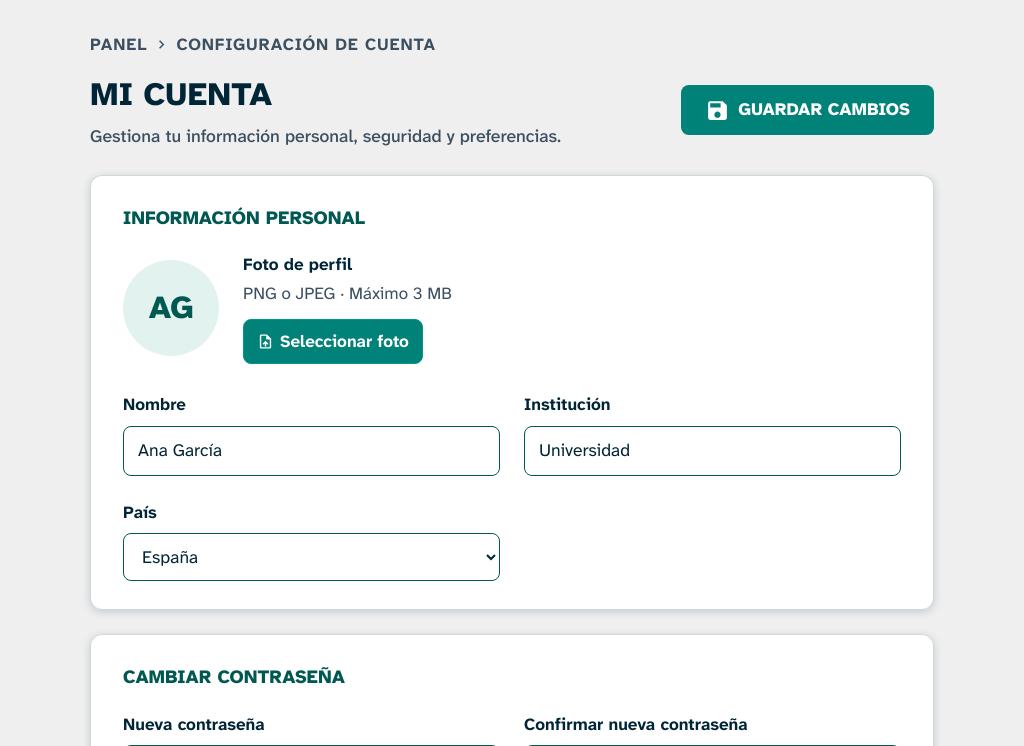
AccountPage › confirma la contraseña y guarda los cambios personales
The image size is (1024, 746).
Replace the text in the field labelled "Nombre" with "Ana López" at (312, 451), box [123,426,500,476]
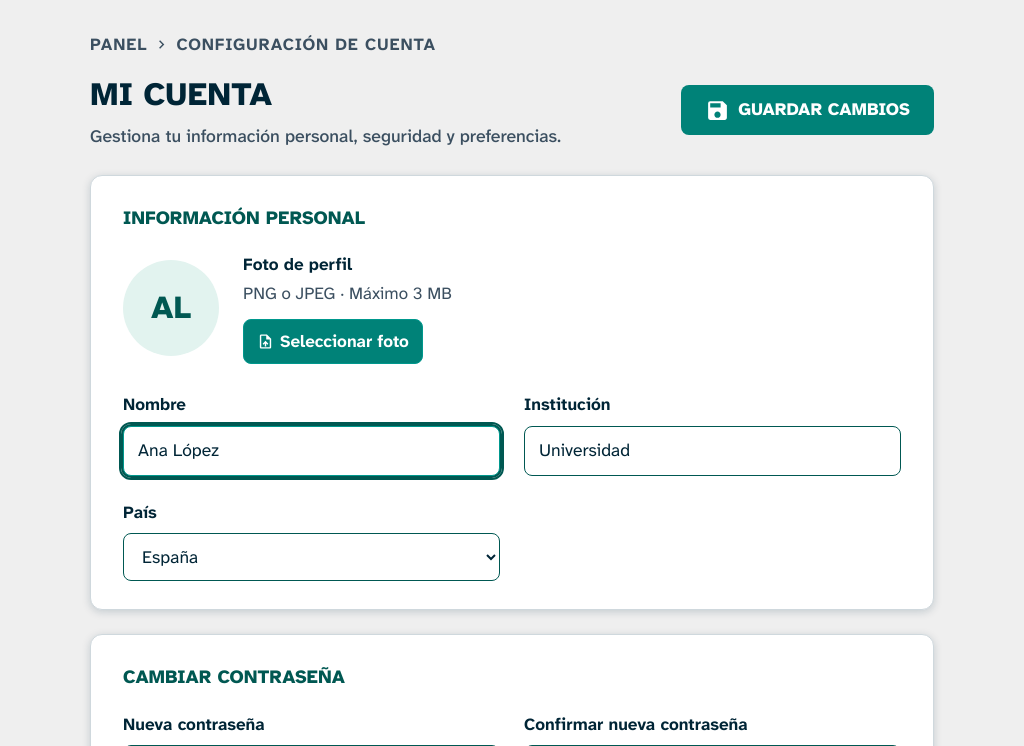
Click the button "GUARDAR CAMBIOS" at (808, 110), box [681,85,934,135]
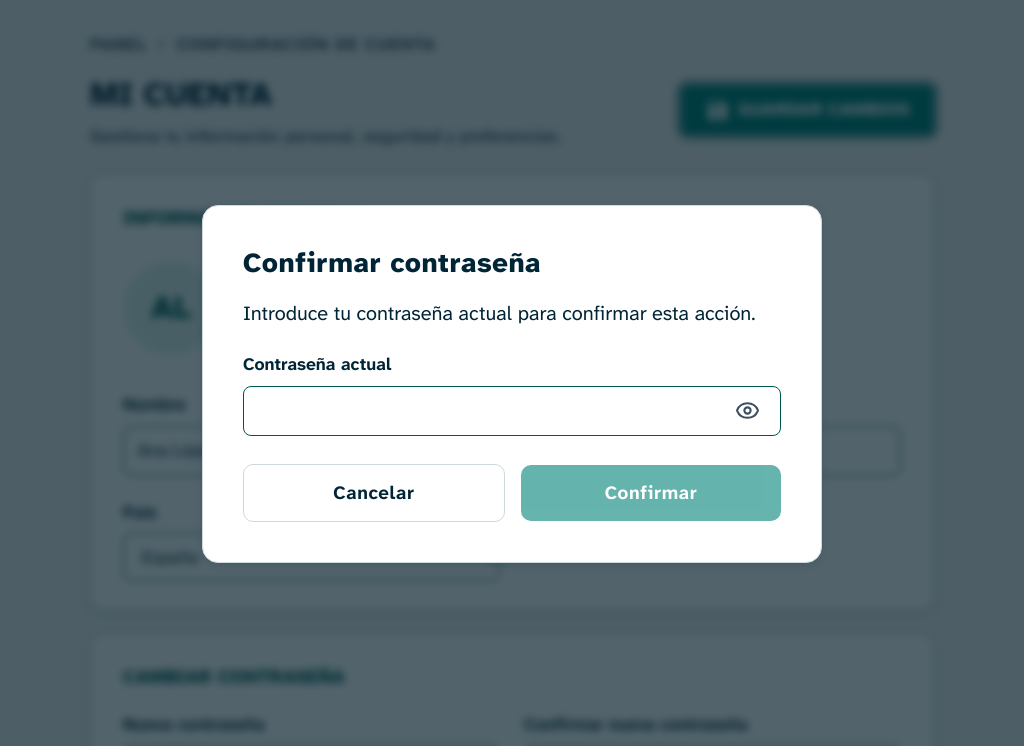
Type "clave" into the password field labelled "Contraseña actual" at (512, 411), box [243,386,781,436]
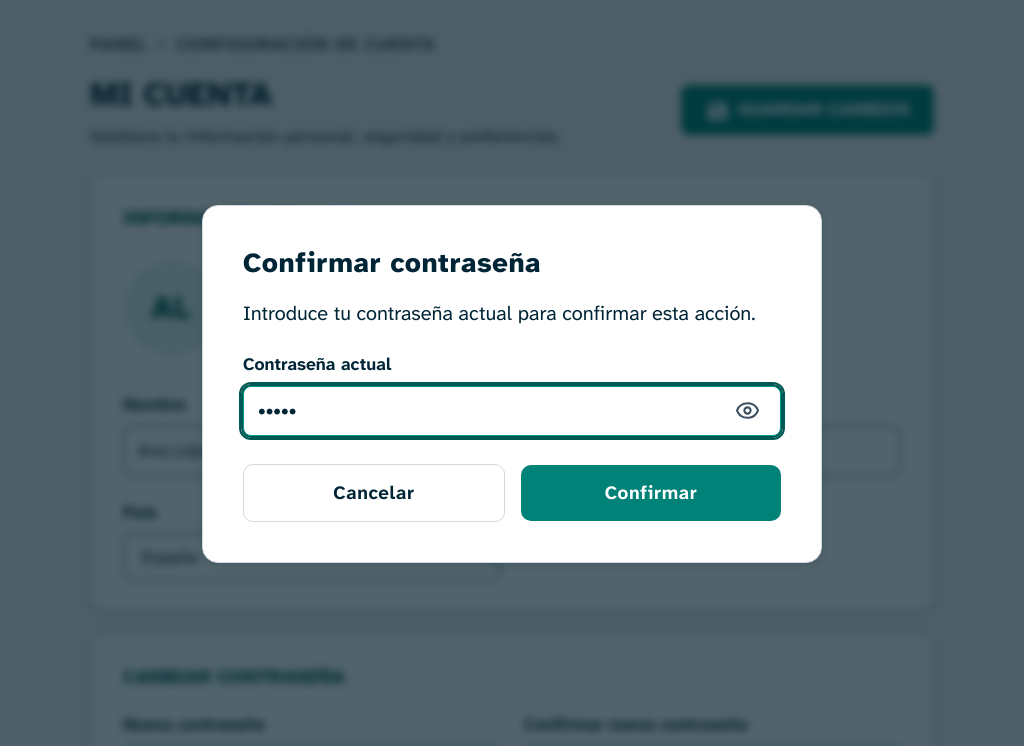
Click the button "Confirmar" at (651, 493), box [521,465,781,521]
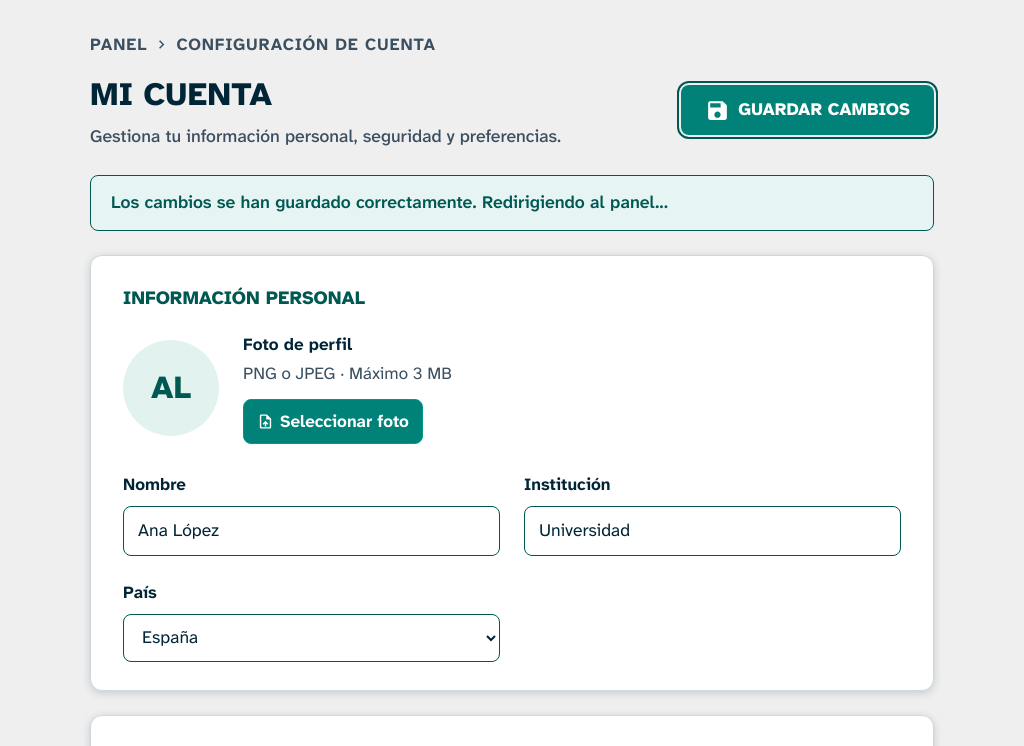
Expected: the message shows "Los cambios se han guardado correctamente.", [111,190,668,214]
